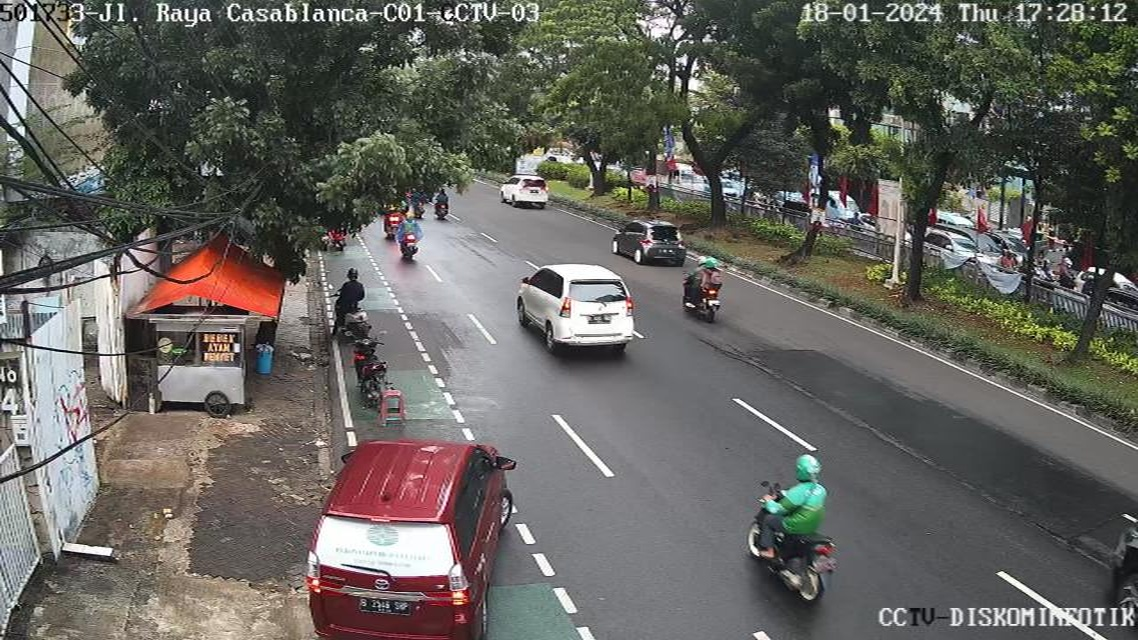Gerobak: (148, 312, 256, 419)
